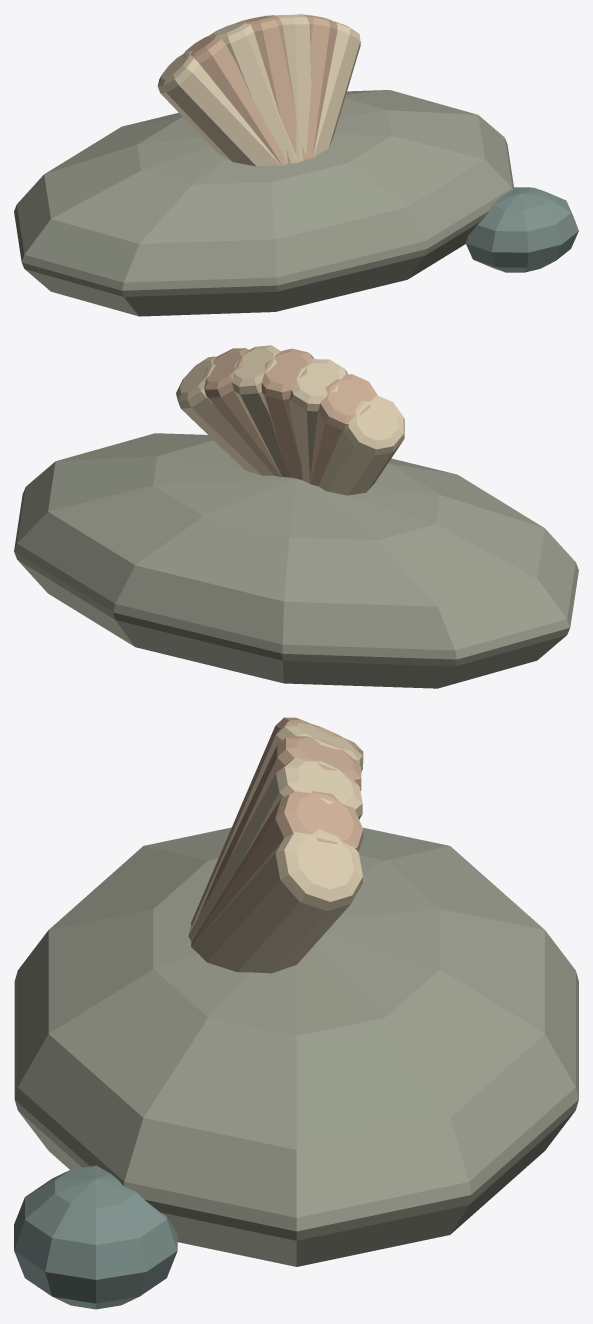
File: shell-shrine.glb
3 views of the same model, one above another, from view 1: azimuth 30°, elevation 25°; view 2: azimuth 150°, elevation 25°; view 3: azimuth 270°, elevation 25° (orthographic). The views are drawn at different scales.
Visible parts, largest first — view 1: shell-shrine_Discovery_Mesh, discovery_Motion.017_Mesh; view 2: shell-shrine_Discovery_Mesh, discovery_Motion.017_Mesh; view 3: shell-shrine_Discovery_Mesh, discovery_Motion.017_Mesh.
Boxes of the visible parts, <box> form: shell-shrine_Discovery_Mesh: <box>14,90,578,316</box>; discovery_Motion.017_Mesh: <box>157,14,360,166</box>; shell-shrine_Discovery_Mesh: <box>14,433,578,688</box>; discovery_Motion.017_Mesh: <box>176,345,404,495</box>; shell-shrine_Discovery_Mesh: <box>14,827,578,1309</box>; discovery_Motion.017_Mesh: <box>188,717,363,973</box>.
Size of the model in its own units: 1.27 by 0.6366 by 0.7874.
